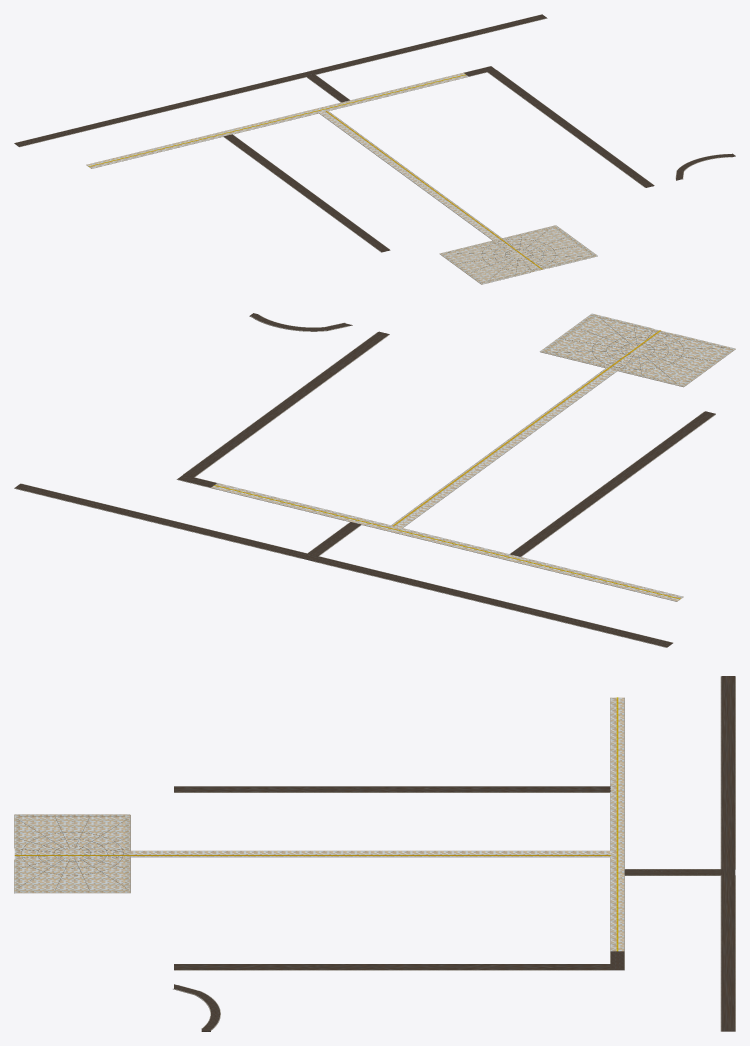
The model's file is ov-road-walk.glb.
3 views of the same model, one above another, from view 1: azimuth 30°, elevation 25°; view 2: azimuth 150°, elevation 25°; view 3: azimuth 270°, elevation 25° (orthographic). The views are drawn at different scales.
Parts seen in each view (by area): view 1: plaza_south_gate, walkway_RN1_y44, walkway_1_y20, walkway_2_x0, walkway_RN2_x-33, walkway_RN3_x58, tactile_walk1; view 2: plaza_south_gate, walkway_RN1_y44, walkway_1_y20, walkway_2_x0, walkway_RN3_x58, walkway_RN2_x-33, tactile_walk1, curb_walk1_north; view 3: plaza_south_gate, walkway_RN1_y44, walkway_1_y20, walkway_RN2_x-33, walkway_RN3_x58, walkway_2_x0, curb_walk2_east, tactile_walk1, walkway_RN5_x9p5.
Part boxes in pixels (x1,y1,x2,y2): plaza_south_gate: (440, 225, 597, 284); walkway_RN1_y44: (14, 14, 546, 146); walkway_1_y20: (86, 73, 468, 168); walkway_2_x0: (319, 111, 501, 240); walkway_RN2_x-33: (224, 134, 390, 252); walkway_RN3_x58: (488, 70, 654, 187); tactile_walk1: (89, 74, 465, 166); plaza_south_gate: (540, 314, 734, 386); walkway_RN1_y44: (14, 483, 672, 647); walkway_1_y20: (211, 483, 683, 601); walkway_2_x0: (391, 368, 616, 527); walkway_RN3_x58: (183, 331, 389, 477); walkway_RN2_x-33: (510, 411, 715, 556); tactile_walk1: (214, 485, 680, 599); curb_walk1_north: (211, 487, 677, 601); plaza_south_gate: (14, 814, 130, 892); walkway_RN1_y44: (721, 676, 735, 1031); walkway_1_y20: (610, 697, 624, 951); walkway_RN2_x-33: (174, 786, 610, 792); walkway_RN3_x58: (174, 964, 610, 970); walkway_2_x0: (130, 851, 610, 856); curb_walk2_east: (131, 856, 609, 857); tactile_walk1: (616, 697, 618, 951); walkway_RN5_x9p5: (624, 869, 721, 875).
Bounding box in the file's own units: 182 × 0.125 × 156.
Materials: 8 (8 with a texture image).
